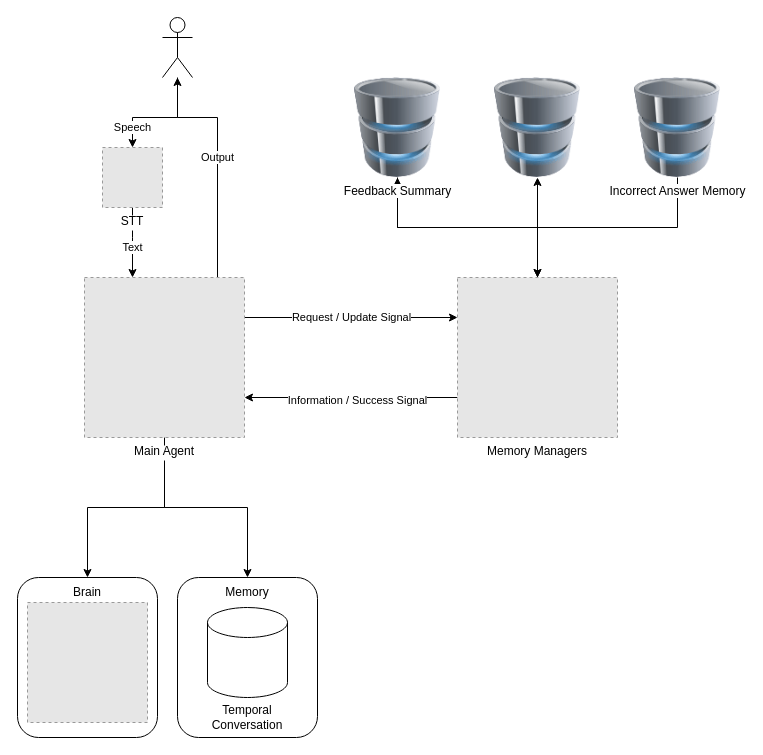
Some shapes in this 763 by 755 pixel diagram are drawn without their labels. Grey dashed boxes stand in for pictures. Each missing label, with the centre of its shape:
Actor: the point at 177,47
Personal Information: the point at 537,127
